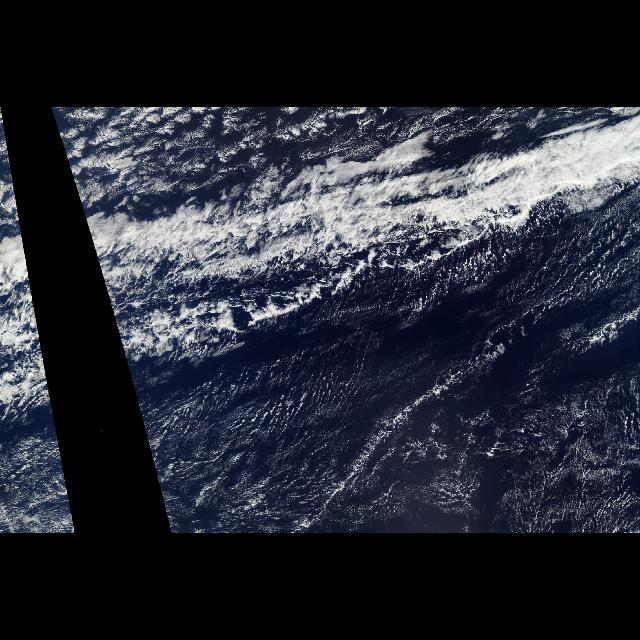Fish: (51, 116, 638, 412), (7, 144, 53, 412)
Flower: (70, 120, 148, 188)
Gravel: (183, 378, 424, 452), (522, 240, 640, 300)
Sugar: (175, 360, 638, 530)
